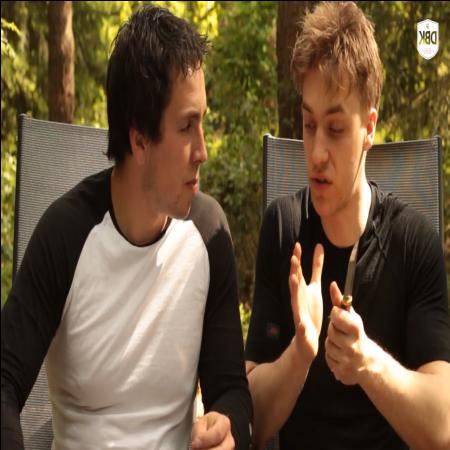long weapon: (323, 218, 367, 344)
